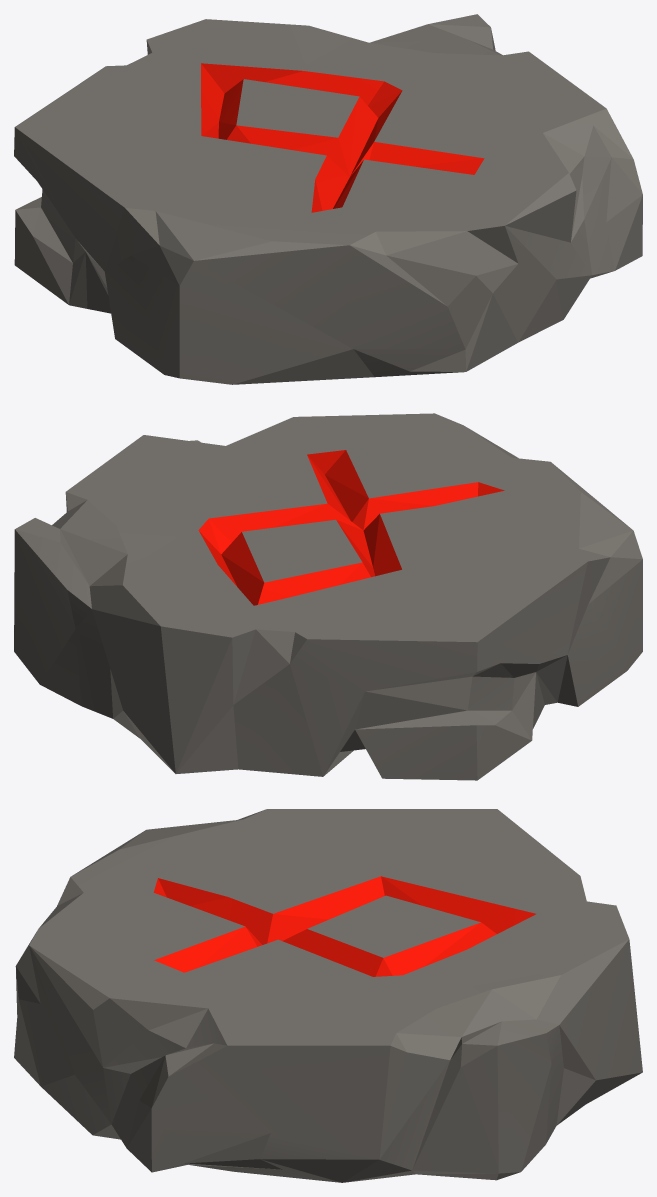
Rendered from SM_Env_Rune_Rounded_03.obj.
3 views of the same model, one above another, from view 1: azimuth 30°, elevation 25°; view 2: azimuth 150°, elevation 25°; view 3: azimuth 270°, elevation 25° (orthographic). The views are drawn at different scales.
Visible parts, largest first — view 1: SM_Env_Rune_Rounded_03; view 2: SM_Env_Rune_Rounded_03; view 3: SM_Env_Rune_Rounded_03.
Part boxes in pixels (x1=…): SM_Env_Rune_Rounded_03: x1=14, y1=14, x2=642, y2=384; SM_Env_Rune_Rounded_03: x1=14, y1=413, x2=642, y2=780; SM_Env_Rune_Rounded_03: x1=14, y1=809, x2=642, y2=1182.
Bounding box in the file's own units: 0.5625 × 0.1605 × 0.6314.
